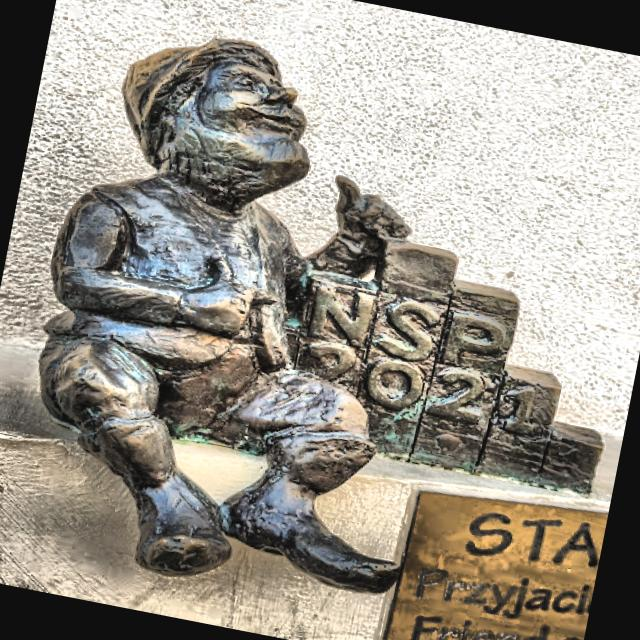Statyslaw: (40, 40, 602, 592)
